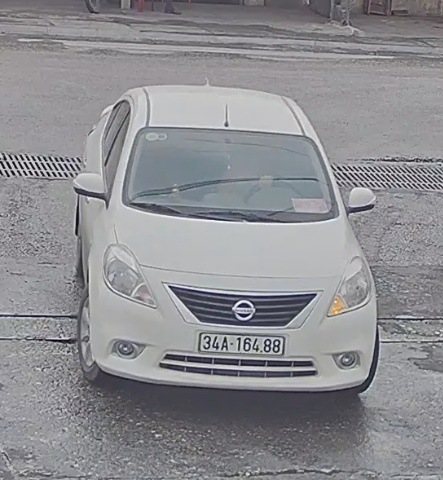vehicle plate: (196, 327, 291, 360)
